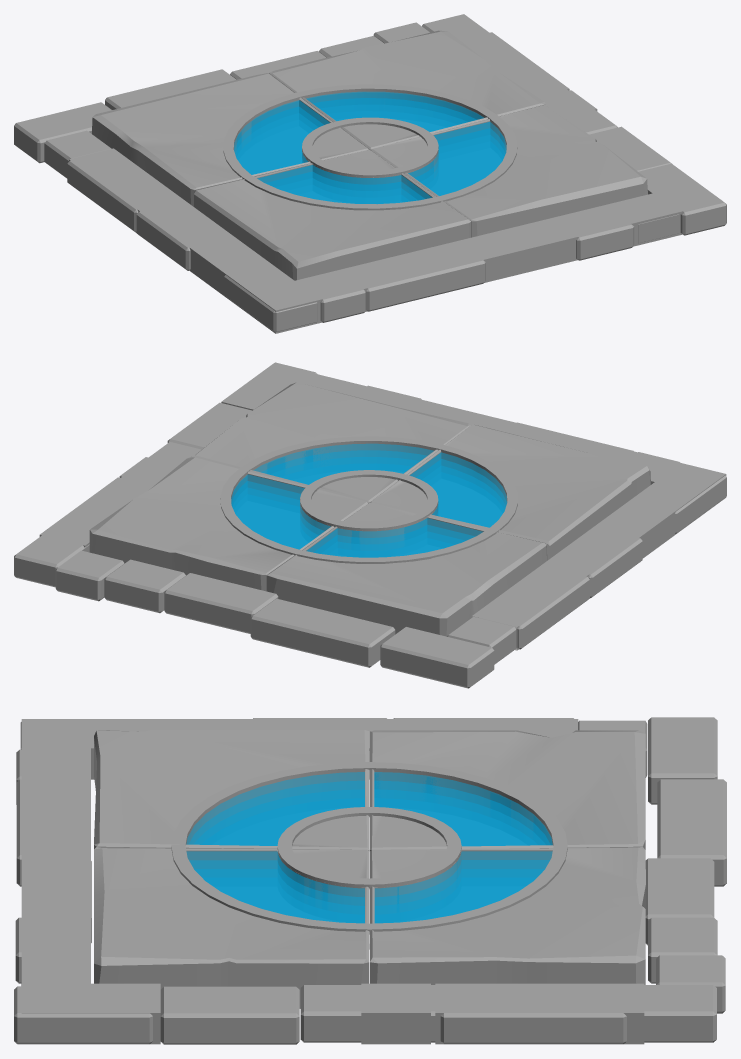
File: WaterLightning puzzle.fbx
3 renders of one model, top to bottom at view 1: azimuth 30°, elevation 25°; view 2: azimuth 150°, elevation 25°; view 3: azimuth 270°, elevation 25°, orthographic. The views are drawn at different scales.
Parts seen in each view (by area): view 1: polySurface8, groove_2, groove_1, groove_4, groove_3, water_100_percent (×3), water_75_percent (×3), polySurface7 (×2), polySurface13 (×2), polySurface12 (×2), lighted_edge (×3), water_main_100_percent (+18 smaller); view 2: groove_4, polySurface8, groove_3, groove_2, groove_1, water_100_percent (×3), water_75_percent (×3), polySurface7 (×2), polySurface13 (×2), polySurface4 (×2), polySurface9, lighted_edge (×3) (+15 smaller); view 3: groove_1, groove_3, polySurface8, groove_2, groove_4, water_100_percent (×3), water_75_percent (×3), polySurface14 (×2), polySurface13, polySurface4 (×2), water_main_100_percent, lighted_edge (×3) (+16 smaller).
Boxes of the visible parts, x1,y1,x2,y2 form: polySurface8: (69, 148, 722, 333); groove_2: (194, 149, 471, 280); groove_1: (371, 104, 647, 237); groove_4: (92, 73, 368, 206); groove_3: (269, 30, 545, 150); water_100_percent (×3): (257, 91, 506, 203); water_75_percent (×3): (234, 98, 505, 195); polySurface7 (×2): (105, 69, 485, 311); polySurface13 (×2): (67, 38, 564, 232); polySurface12 (×2): (224, 185, 726, 332); lighted_edge (×3): (223, 84, 517, 201); water_main_100_percent: (234, 100, 329, 174); groove_4: (266, 502, 547, 636); polySurface8: (221, 363, 726, 650); groove_3: (89, 457, 367, 591); groove_2: (370, 424, 650, 560); groove_1: (192, 382, 471, 503); water_100_percent (×3): (231, 443, 507, 549); water_75_percent (×3): (231, 450, 474, 557); polySurface7 (×2): (250, 422, 633, 667); polySurface13 (×2): (69, 480, 589, 649); polySurface4 (×2): (164, 402, 508, 633); polySurface9: (380, 627, 494, 688); lighted_edge (×3): (220, 436, 497, 563); groove_1: (94, 847, 369, 1008); groove_3: (370, 847, 645, 984); polySurface8: (21, 719, 578, 1044); groove_2: (94, 730, 369, 851); groove_4: (370, 730, 645, 850); water_100_percent (×3): (186, 772, 552, 923); water_75_percent (×3): (190, 781, 550, 922); polySurface14 (×2): (160, 720, 647, 1044); polySurface13: (440, 986, 626, 1044); polySurface4 (×2): (25, 858, 714, 945); water_main_100_percent: (374, 772, 552, 846); lighted_edge (×3): (171, 762, 567, 934).
Size of the model in its own units: 12.63 by 1.05 by 12.74.
